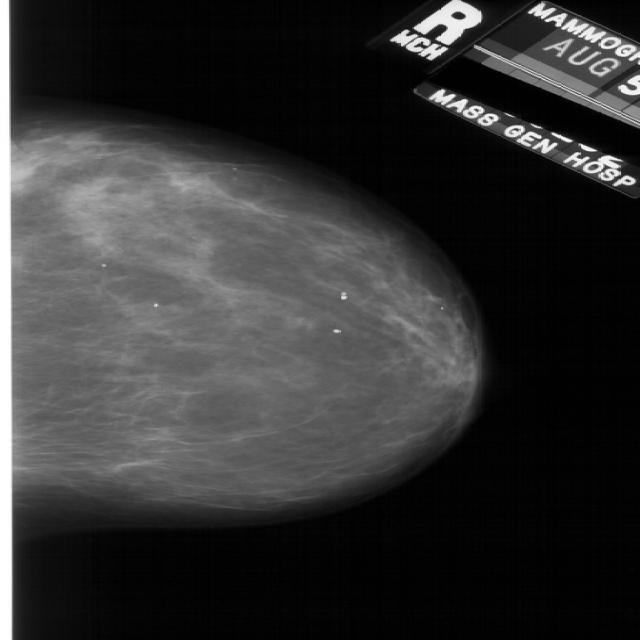tumour: (63, 129, 102, 149)
